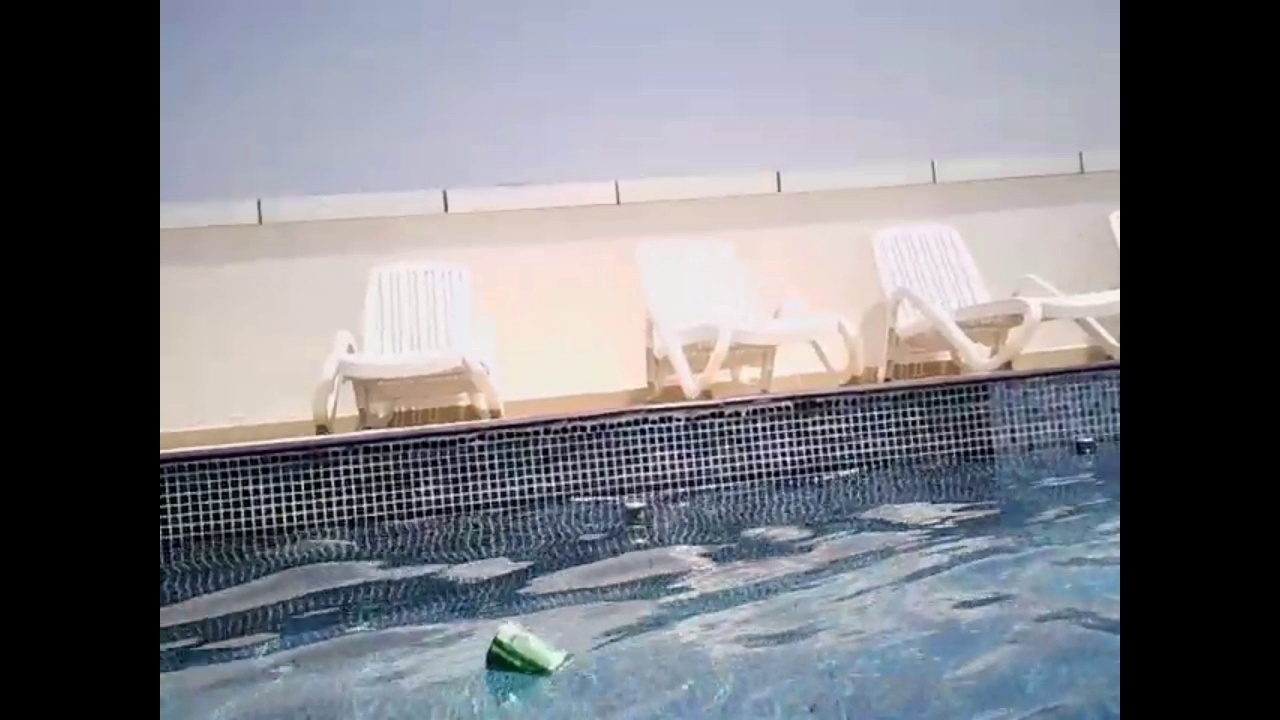debris: (466, 613, 586, 695), (615, 497, 659, 534), (1070, 434, 1099, 466)
